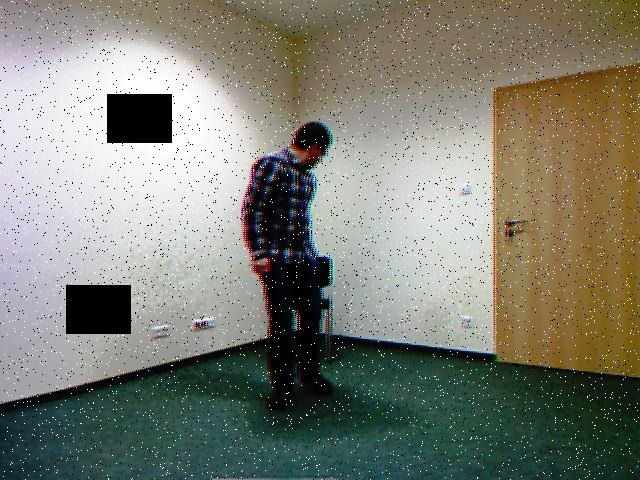walking: (234, 92, 354, 423)
